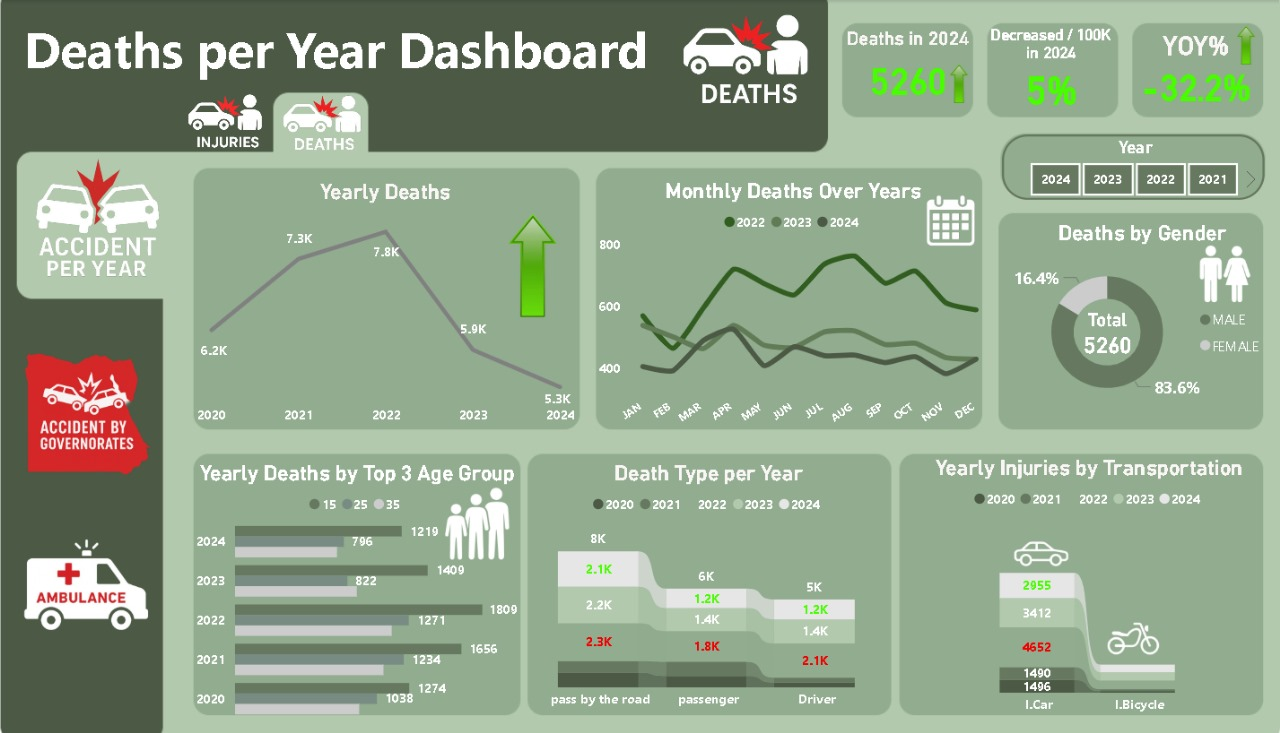

Layout of this report page (visuals, bound fields, positions):
{"tool":"powerbi","page":{"name":"deaths per years","canvas":[1280,720],"ordinal":1},"visuals":[{"type":"textbox","box":[31.8,9.7,897.9,79.6],"z":0},{"type":"card","title":"Deaths in 2024","fields":{"Values":["Sum(PERCENTAGE (2).Number of death)"]},"box":[826.1,6.9,150.9,113.9],"z":1000},{"type":"lineChart","title":"Monthly Deaths Over Years","fields":{"Series":["MOMTH PER YEAR.YEAR"],"Category":["MOMTH PER YEAR.ShortMonth"],"Y":["Sum(MOMTH PER YEAR.DEATH)"]},"box":[594.3,175.1,391,250.9],"z":2000},{"type":"donutChart","title":"Deaths by Gender","fields":{"Category":["gender.gender"],"Y":["Sum(gender.DEAD)"]},"box":[1001.9,216,259,195.8],"z":3000},{"type":"card","title":"Total","fields":{"Values":["Sum(gender.DEAD)"]},"box":[1045.6,283,102.1,83.6],"z":4000},{"type":"clusteredBarChart","title":"Yearly Deaths by Top 3 Age Group","fields":{"Y":["Sum(Age per Years.DEATH)"],"Category":["Age per Years.YEARS"],"Series":["Age per Years.AGE"]},"box":[200.2,451.3,324.9,261.7],"z":5000},{"type":"card","title":"YOY%","fields":{"Values":["measure.Deaths Change 2022-2024 %"]},"box":[1106,9.7,154.6,113.1],"z":6000},{"type":"image","box":[42.1,124.7,132.6,182.6],"z":7000},{"type":"image","box":[432,433.8,97.5,158.9],"z":8000},{"type":"image","box":[1171.3,202.8,79.9,132.6],"z":9000},{"type":"image","box":[993.8,480.6,76.9,124.6],"z":10000},{"type":"image","box":[1084.4,559.3,76.4,133.5],"z":11000},{"type":"image","box":[178.7,87.8,113.5,64.8],"z":12000},{"type":"slicer","title":"Year","fields":{"Values":["PERCENTAGE (2).Year"]},"box":[994,131.7,257.3,64.1],"z":13000},{"type":"image","box":[901.8,172.1,84.3,87.8],"z":14000},{"type":"lineChart","title":"Yearly Deaths","fields":{"Category":["PERCENTAGE (2).Year  ا"],"Y":["Sum(PERCENTAGE (2).Number of death)"]},"box":[201.1,175.6,379.3,248.5],"z":15000},{"type":"image","box":[271.3,89.6,119.4,62.3],"z":16000},{"type":"actionButton","box":[175.6,89.6,124.7,58],"z":17000},{"type":"card","title":"Decreased / 100K in 2024","fields":{"Values":["Sum(PERCENTAGE (2).Deceasedd / 100 thousand)"]},"box":[977,4.1,129,120.8],"z":18000},{"type":"image","box":[654,9.3,184.8,96.5],"z":19000},{"type":"columnChart","title":" Death Type per Year  ","fields":{"Category":["Death tybe per year.Death type"],"Series":["Death tybe per year.Years "],"Y":["Sum(Death tybe per year.DEATH)"]},"box":[511.9,451.3,389.9,251.1],"z":20000},{"type":"ribbonChart","title":"Yearly Injuries by Transportation ","fields":{"Category":["TRANPORTATION PER YEAR.Transportation"],"Y":["Sum(TRANPORTATION PER YEAR.DEATH)"],"Series":["TRANPORTATION PER YEAR.YEAR"]},"box":[898.2,446,362.6,261.7],"z":21000},{"type":"image","box":[489.1,204.6,91.3,110.6],"z":22000},{"type":"image","box":[929.9,58,43,48.3],"z":23000},{"type":"image","box":[1210.8,20.2,43,48.3],"z":24000},{"type":"image","box":[20.2,490.8,154.5,172.1],"z":25000},{"type":"image","box":[20.2,330.1,163.3,163.3],"z":26000}]}

Visuals, with their boxes in screenshot pixels (x1, y1, x2, y2), scaled from the page's 1280x720 canvas onto the 1280x733 screenshot:
textbox: [32, 10, 930, 91]
"Deaths in 2024" card: [826, 7, 977, 123]
"Monthly Deaths Over Years" lineChart: [594, 178, 985, 434]
"Deaths by Gender" donutChart: [1002, 220, 1261, 419]
"Total" card: [1046, 288, 1148, 373]
"Yearly Deaths by Top 3 Age Group" clusteredBarChart: [200, 459, 525, 726]
"YOY%" card: [1106, 10, 1261, 125]
image: [42, 127, 175, 313]
image: [432, 442, 530, 603]
image: [1171, 206, 1251, 341]
image: [994, 489, 1071, 616]
image: [1084, 569, 1161, 705]
image: [179, 89, 292, 155]
"Year" slicer: [994, 134, 1251, 199]
image: [902, 175, 986, 265]
"Yearly Deaths" lineChart: [201, 179, 580, 432]
image: [271, 91, 391, 155]
actionButton: [176, 91, 300, 150]
"Decreased / 100K in 2024" card: [977, 4, 1106, 127]
image: [654, 9, 839, 108]
" Death Type per Year  " columnChart: [512, 459, 902, 715]
"Yearly Injuries by Transportation " ribbonChart: [898, 454, 1261, 720]
image: [489, 208, 580, 321]
image: [930, 59, 973, 108]
image: [1211, 21, 1254, 70]
image: [20, 500, 175, 675]
image: [20, 336, 184, 502]
